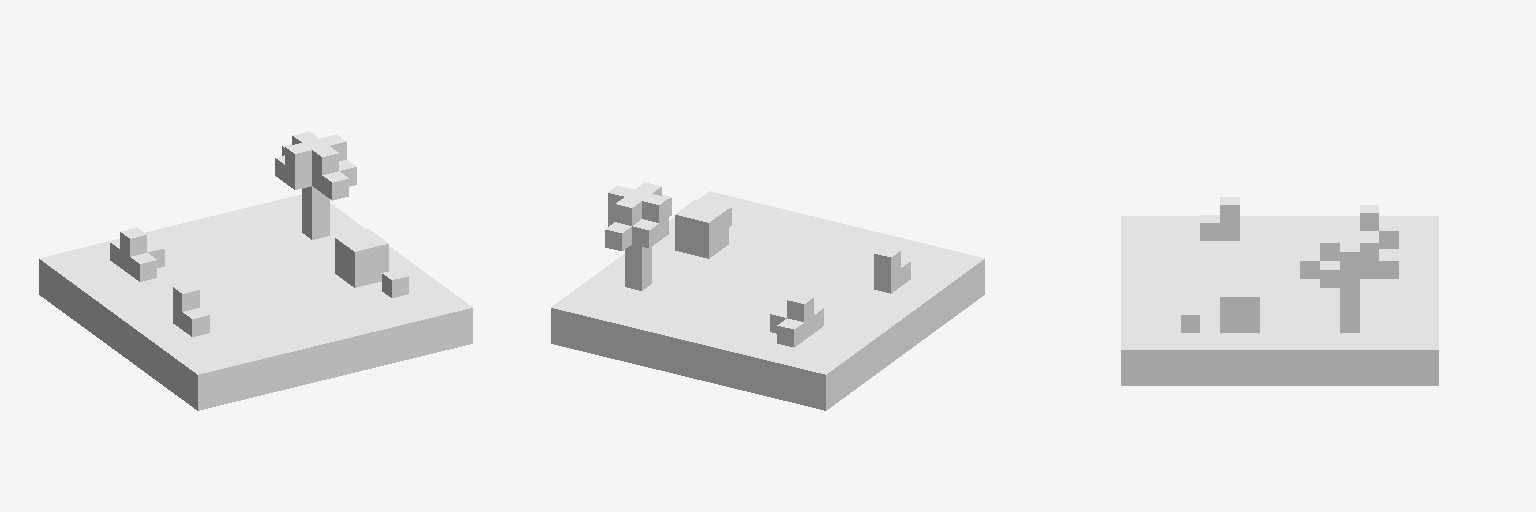
Rendered from Road_forward_1.obj.
3 renders of one model, left to right at view 1: azimuth 30°, elevation 25°; view 2: azimuth 150°, elevation 25°; view 3: azimuth 270°, elevation 25°, orthographic.
Visible parts, largest first — view 1: object 1; view 2: object 1; view 3: object 1.
Boxes of the visible parts, x1=… form: object 1: x1=39, y1=131, x2=472, y2=410; object 1: x1=551, y1=182, x2=984, y2=410; object 1: x1=1121, y1=197, x2=1438, y2=385.
Bounding box in the file's own units: 1.6 × 0.7 × 1.6.